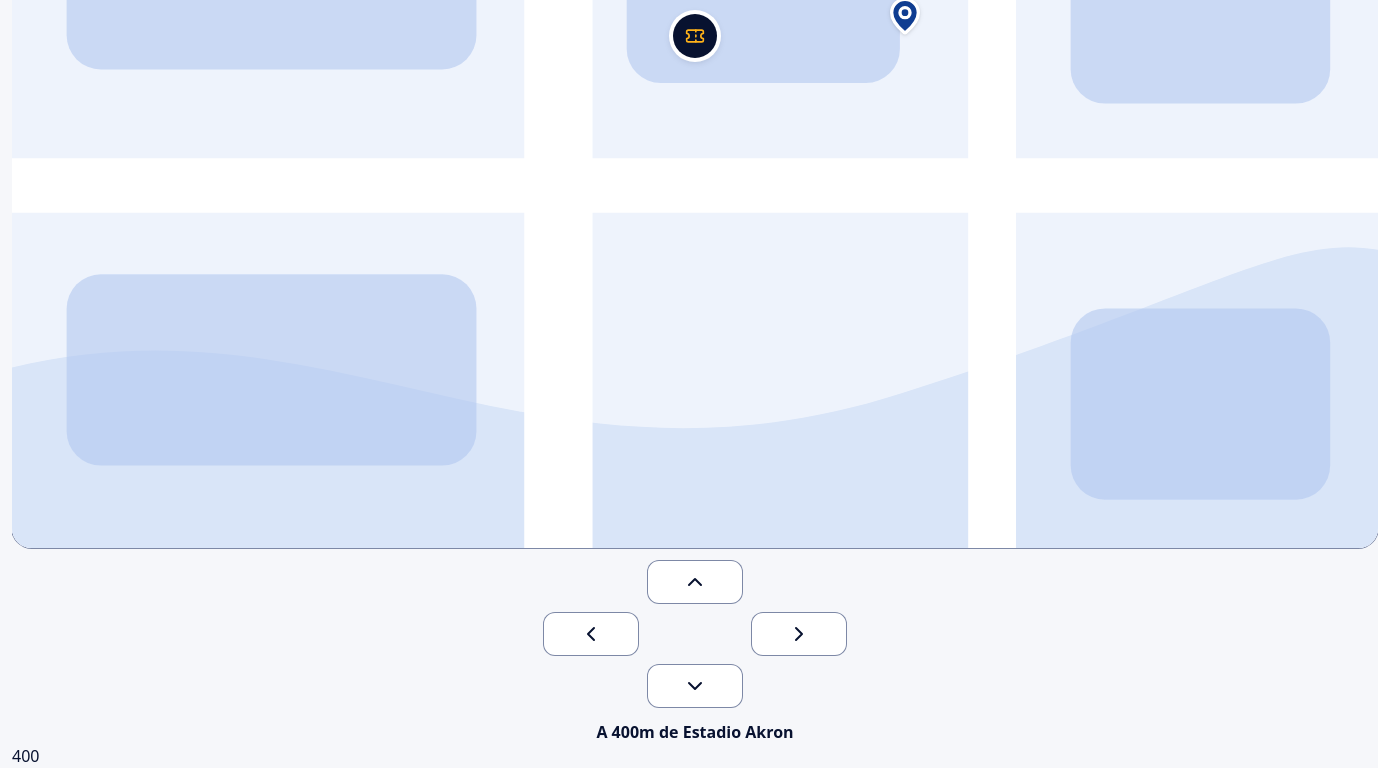
PinPicker › moves the pin 50 meters with the direction buttons and says how far it is
The image size is (1378, 768).
(page scrolled)
Expected: the message reads "A 400m de Estadio Akron", top-left (596, 721), bottom-right (794, 743)
Step 1. Click the button named "Mover al este" → (799, 634), box top-left (751, 612), bottom-right (847, 656)
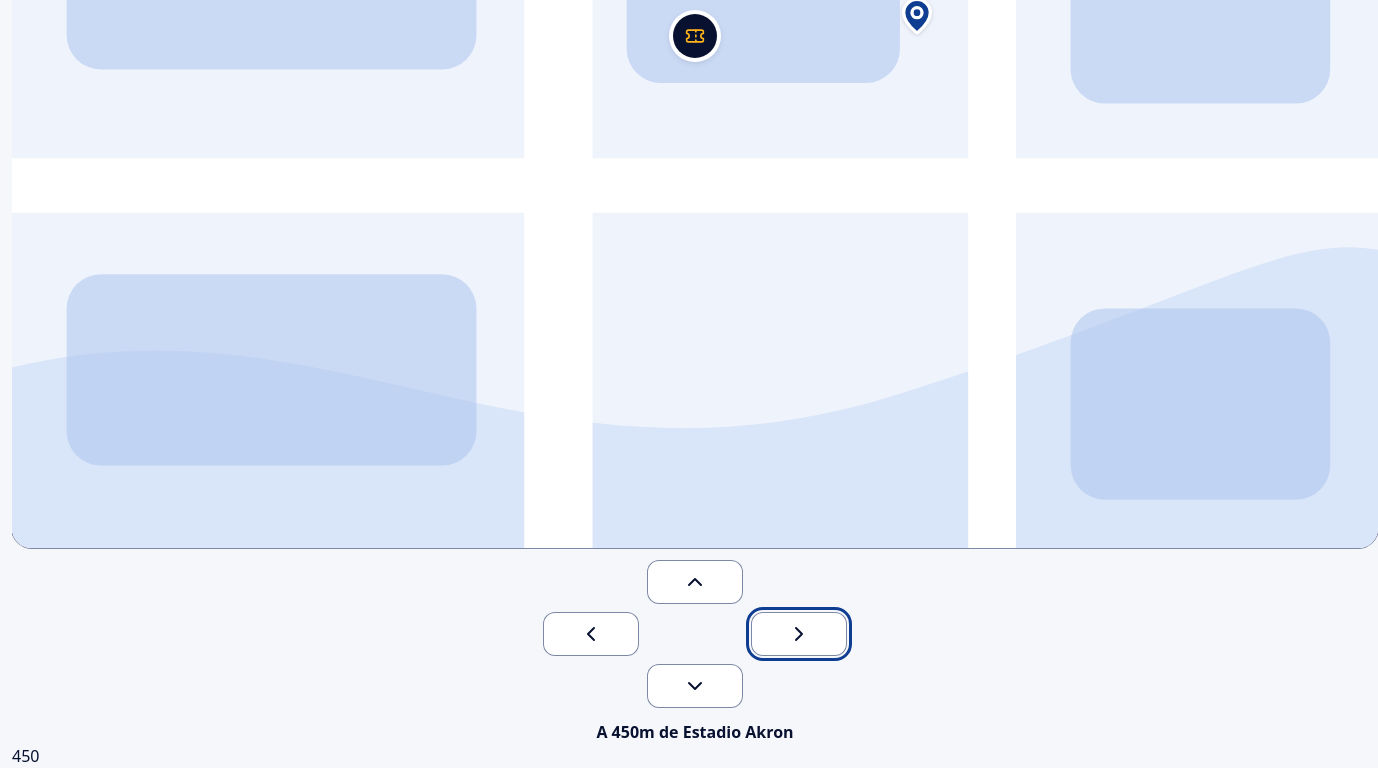
Expected: the message reads "A 450m de Estadio Akron", top-left (596, 721), bottom-right (794, 743)
Step 2. Click the button named "Mover al oeste" → (591, 634), box top-left (543, 612), bottom-right (639, 656)
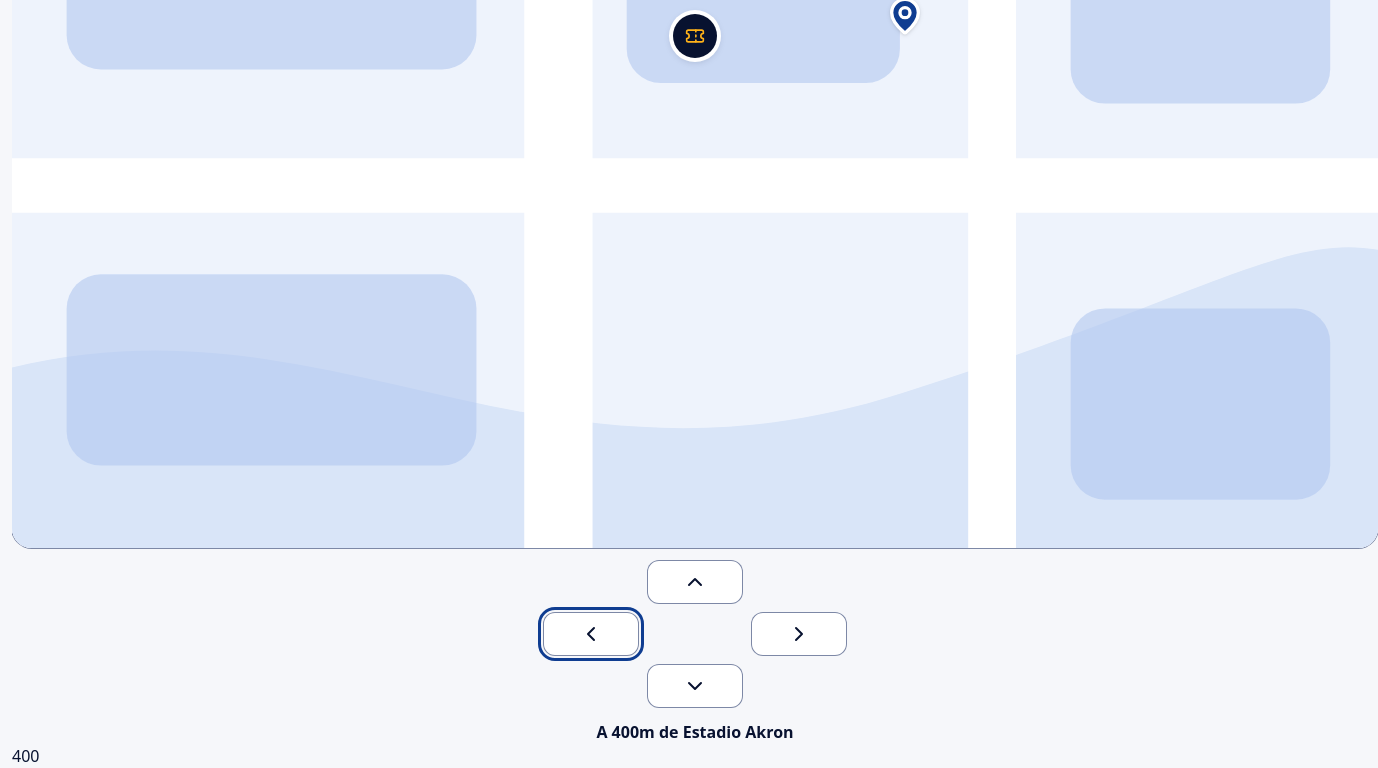
Step 3. Click the button named "Mover al oeste" → (591, 634), box top-left (543, 612), bottom-right (639, 656)
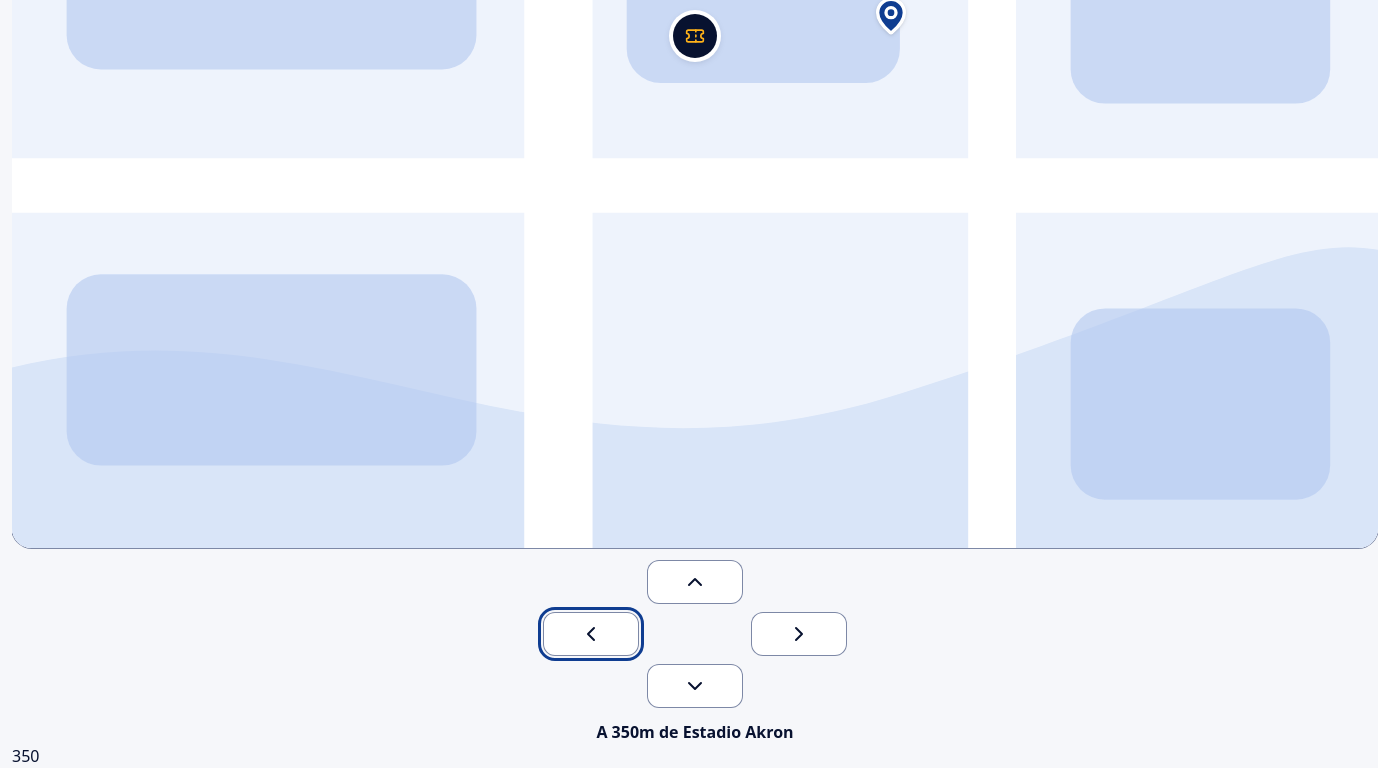
Expected: the message reads "A 350m de Estadio Akron", top-left (596, 721), bottom-right (794, 743)
